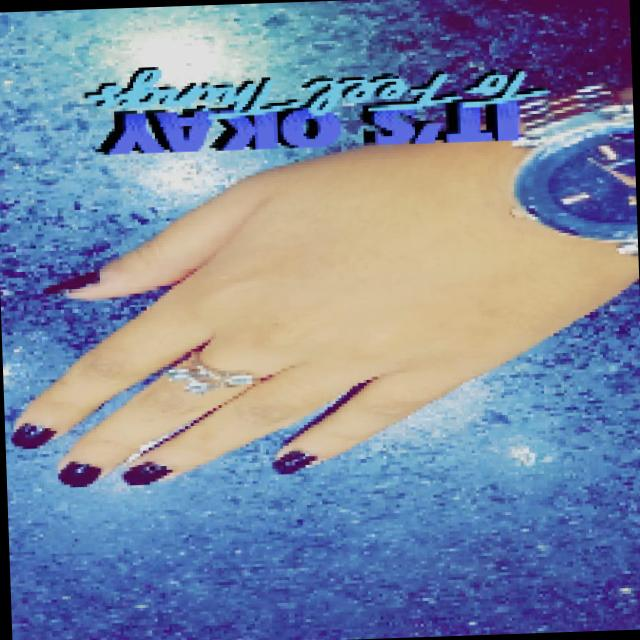Nail: (43, 268, 98, 295), (121, 459, 170, 485), (10, 422, 55, 448), (56, 461, 100, 486), (271, 450, 316, 473)
